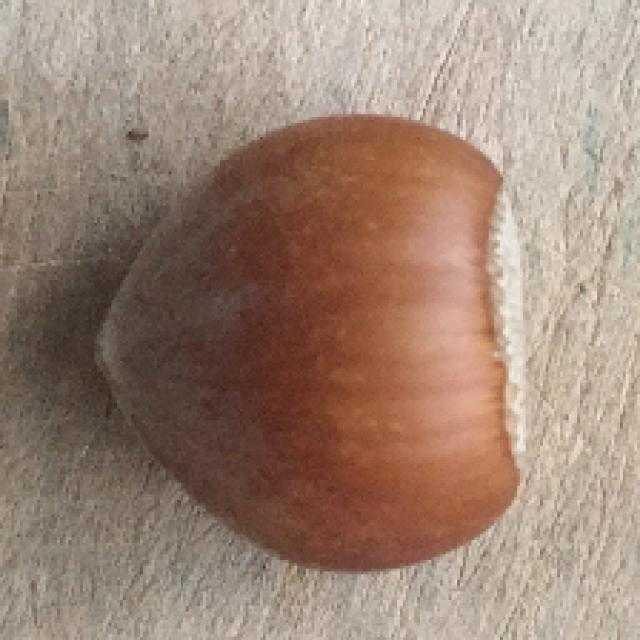qualityHazelnut: (90, 113, 530, 572)
